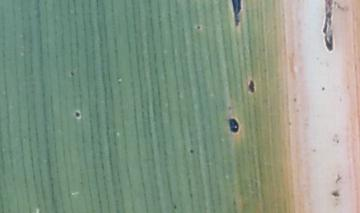tarspot: (321, 1, 341, 52), (229, 1, 243, 28), (227, 117, 240, 134), (246, 79, 256, 93), (329, 189, 341, 199), (334, 171, 342, 185), (73, 111, 82, 119), (187, 192, 196, 200), (231, 196, 237, 207), (171, 203, 178, 211), (334, 137, 340, 146), (319, 85, 326, 92), (310, 146, 317, 153), (69, 70, 75, 78), (292, 96, 298, 104), (195, 24, 202, 30), (286, 120, 292, 127), (188, 148, 194, 154), (226, 105, 232, 111), (262, 67, 267, 74)
